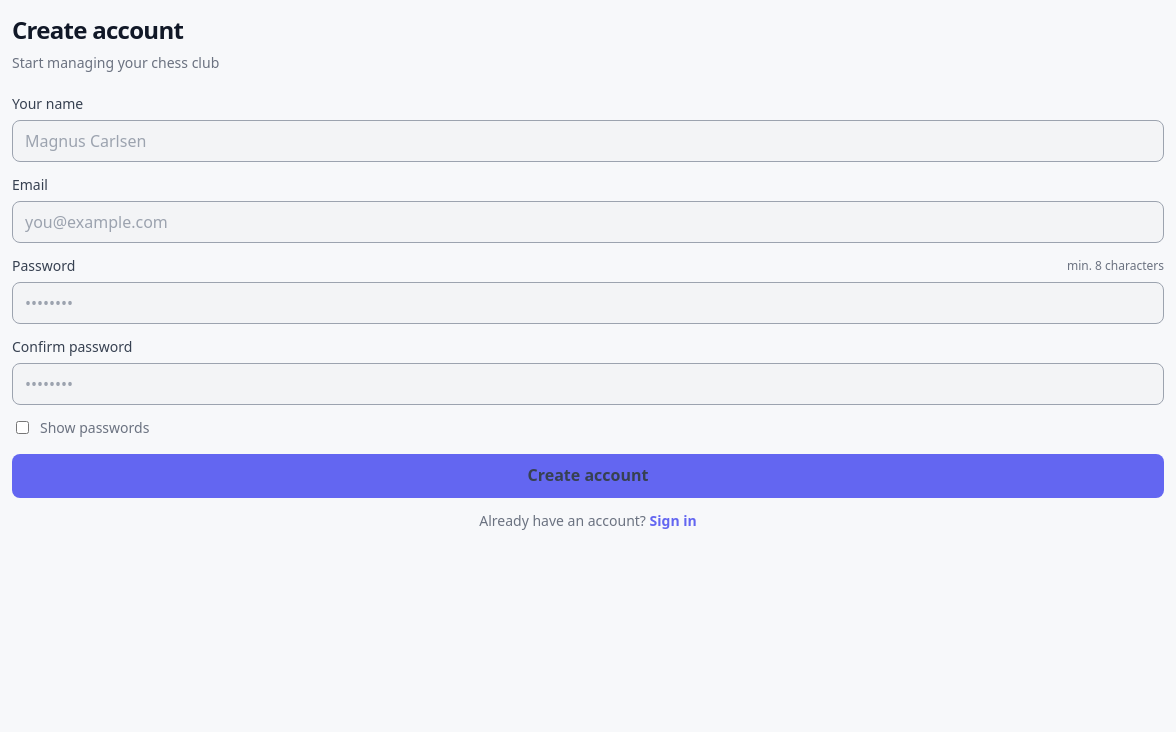
it: authentication views › shows specific registration errors and focuses the first invalid field
The width and height of the screenshot is (1176, 732).
Type "Test User" into the field labelled "Your name". click: (588, 141)
box: [12,120,1164,162]
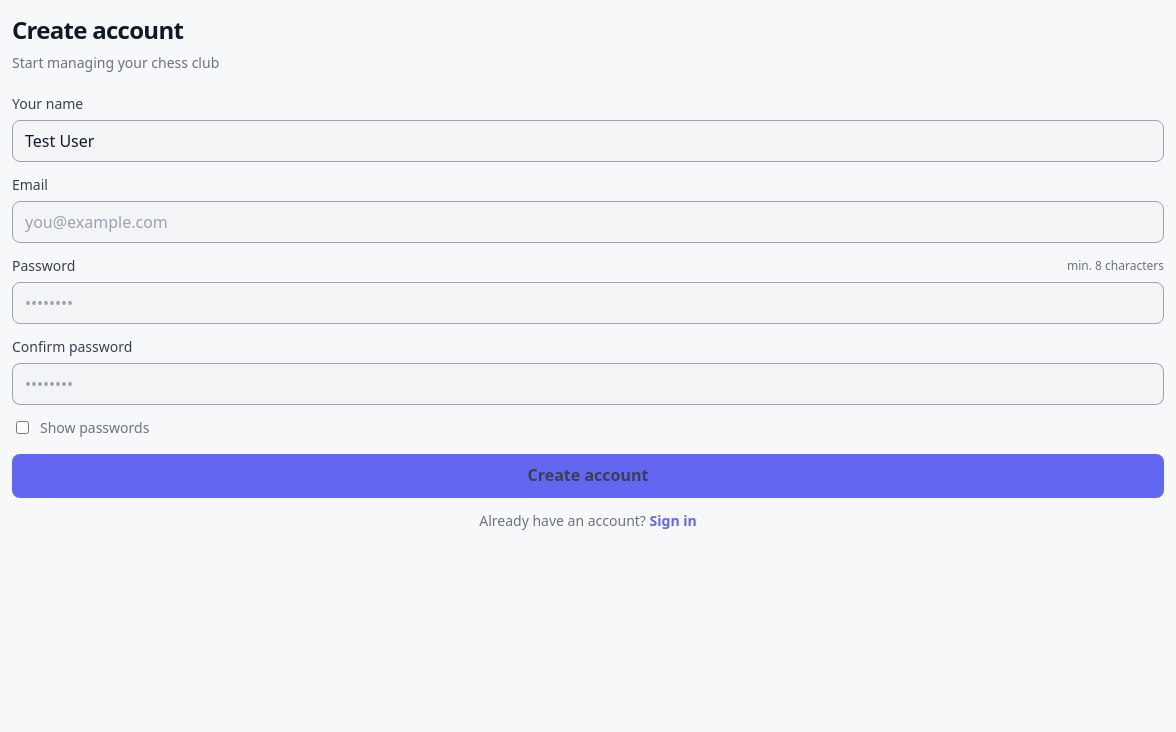
Type "not-an-email" into the field labelled "Email". click: (588, 222)
box: [12,201,1164,243]
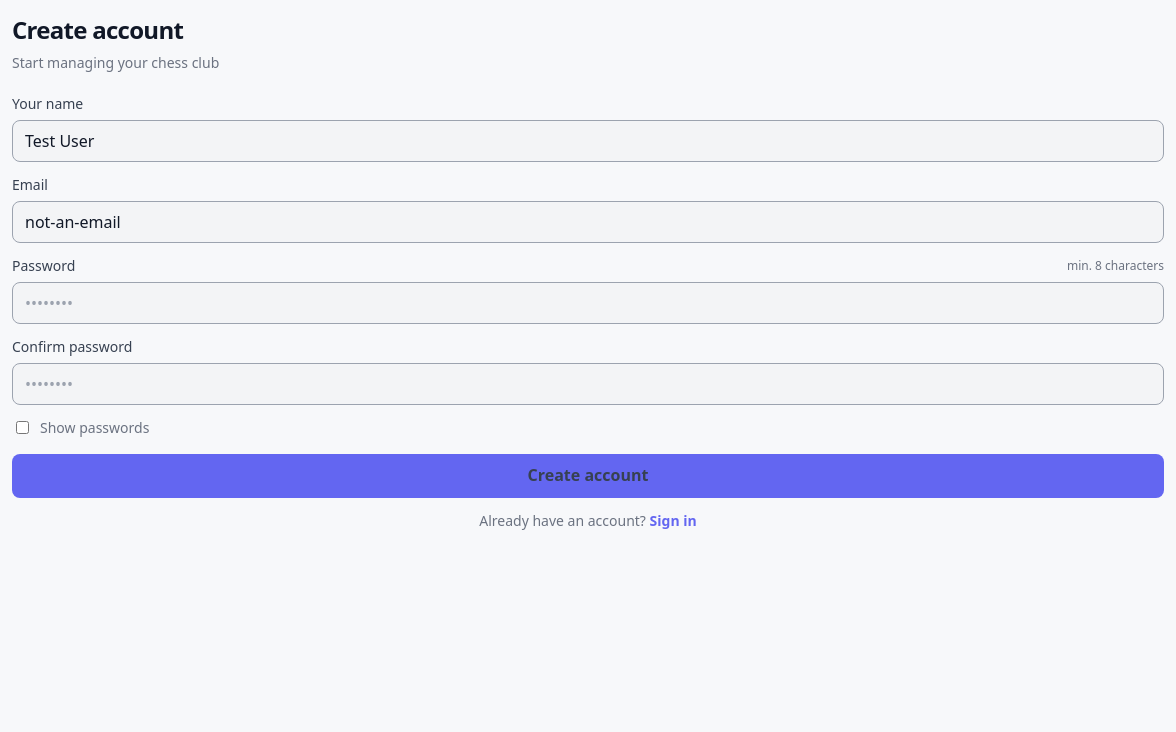
Type "short" into the password field labelled "Password min. 8 characters". click: (588, 303)
box: [12,282,1164,324]
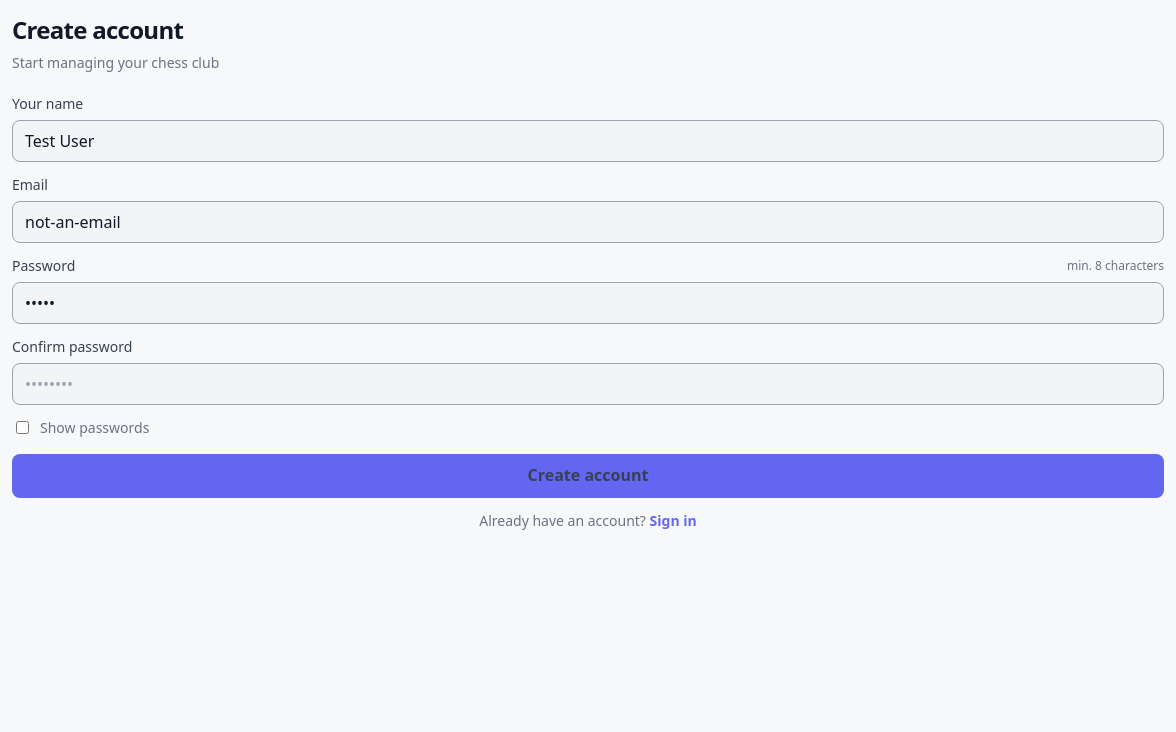
Type "different" into the password field labelled "Confirm password". click: (588, 384)
box: [12,363,1164,405]
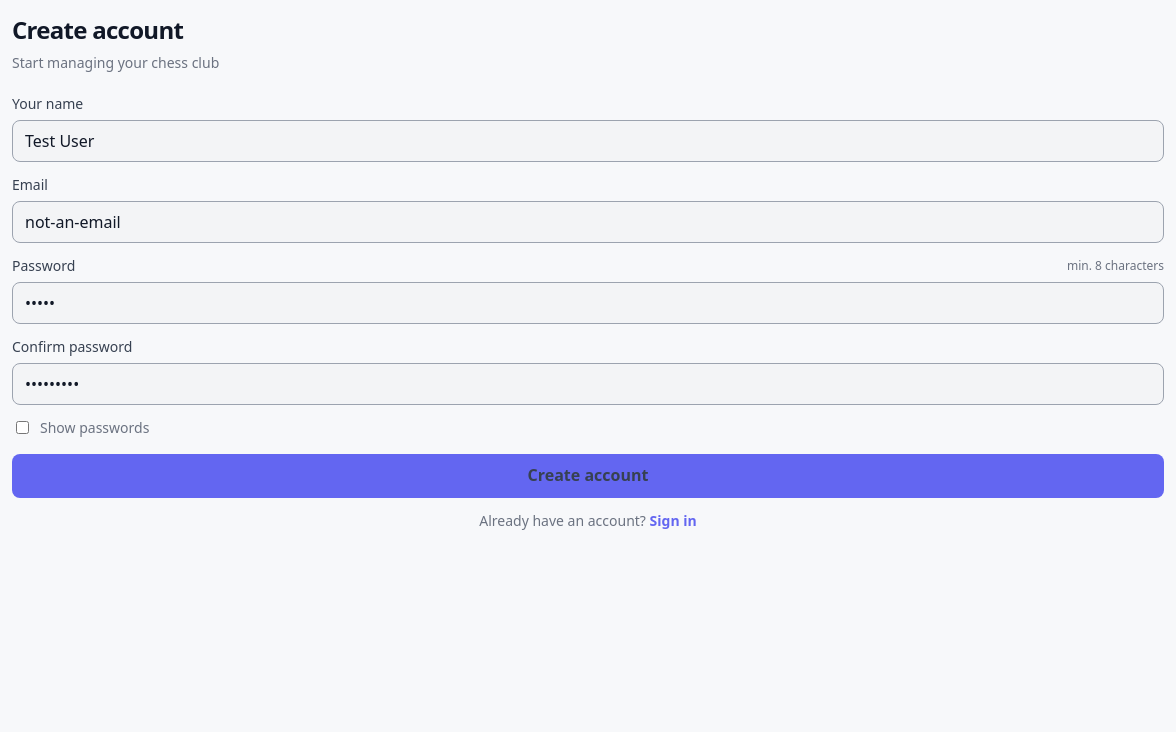
Click the button "Create account". click: click(588, 476)
box: [12,454,1164,498]
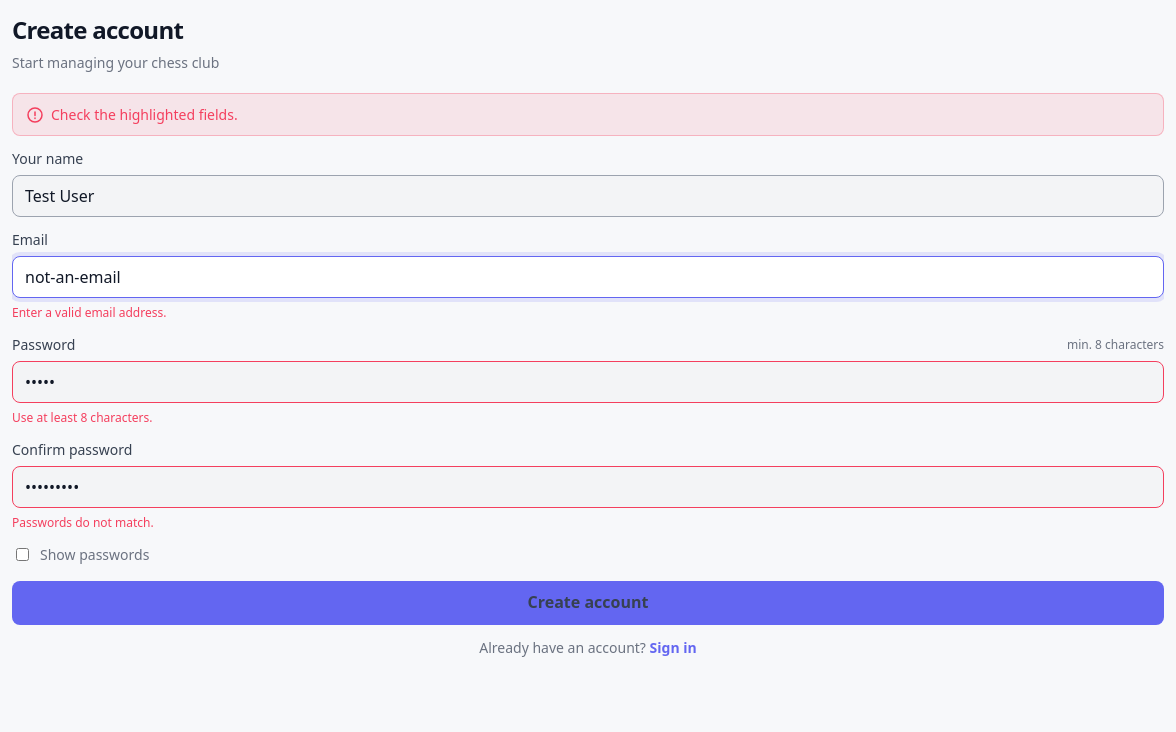
Now the text "Enter a valid email address." is shown, box [12,304,166,321]
Now the text "Use at least 8 characters." is shown, box [12,409,152,426]
Now the text "Passwords do not match." is shown, box [12,514,154,531]
